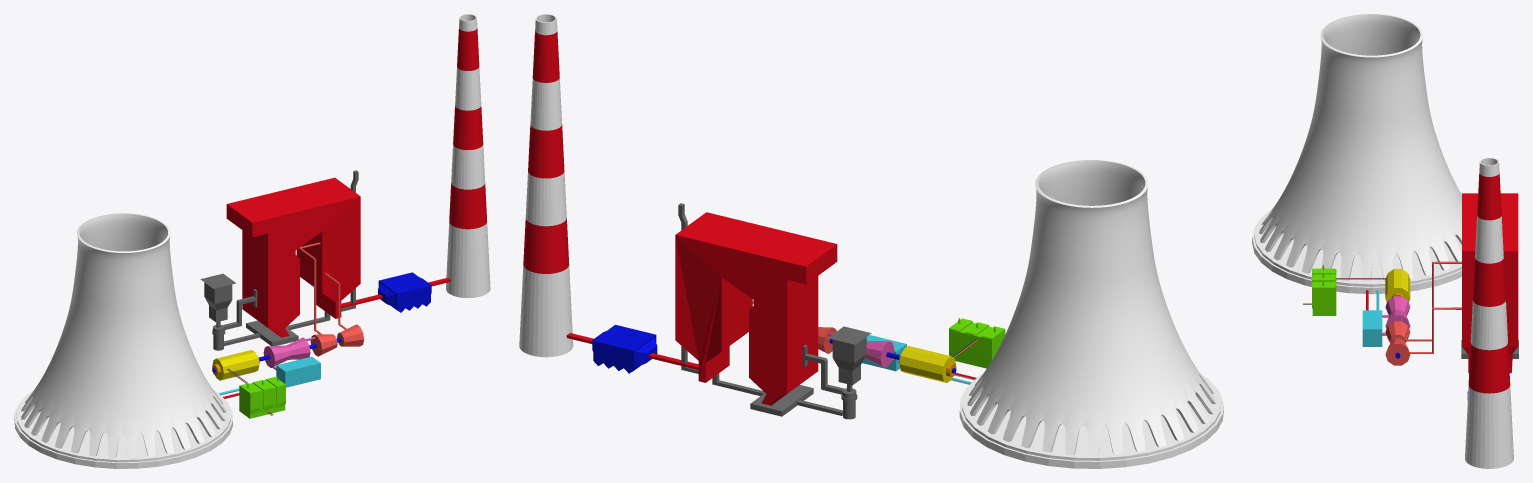
The model's file is thermal_power_plant.glb.
The picture shows the model from 3 angles, left to right: view 1: azimuth 30°, elevation 25°; view 2: azimuth 150°, elevation 25°; view 3: azimuth 270°, elevation 25°; orthographic projection. The views are drawn at different scales.
Visible parts, largest first — view 1: Cylinder, Plane, Cylinder.003, Cylinder.001, Cylinder.002, Cube, Cube.006, Plane.001, Cube.005, Cylinder.007, Cylinder.008, Cube.004 (+1 smaller); view 2: Cylinder, Plane, Cylinder.003, Cylinder.001, Cylinder.002, Cube, Cube.006, Plane.001, Cylinder.007, Cube.004, Cube.003; view 3: Cylinder, Cylinder.003, Plane, Cylinder.001, Cylinder.002, Cube.006, Cube.005, Cylinder.007, Cylinder.008, Cylinder.010, Cylinder.009.
Boxes of the visible parts, x1=… form: Cylinder: x1=21, y1=213, x2=226, y2=457; Plane: x1=226, y1=177, x2=382, y2=337; Cylinder.003: x1=446, y1=14, x2=490, y2=297; Cylinder.001: x1=16, y1=390, x2=230, y2=462; Cylinder.002: x1=14, y1=396, x2=232, y2=468; Cube: x1=378, y1=272, x2=431, y2=312; Cube.006: x1=239, y1=377, x2=285, y2=418; Plane.001: x1=200, y1=273, x2=235, y2=327; Cube.005: x1=276, y1=356, x2=320, y2=387; Cylinder.007: x1=212, y1=350, x2=259, y2=380; Cylinder.008: x1=263, y1=337, x2=310, y2=367; Cube.004: x1=224, y1=170, x2=358, y2=346; Cylinder: x1=967, y1=160, x2=1216, y2=455; Plane: x1=649, y1=212, x2=837, y2=405; Cylinder.003: x1=519, y1=14, x2=573, y2=357; Cylinder.001: x1=962, y1=374, x2=1221, y2=460; Cylinder.002: x1=959, y1=381, x2=1223, y2=468; Cube: x1=592, y1=324, x2=657, y2=373; Cube.006: x1=949, y1=318, x2=1005, y2=368; Plane.001: x1=828, y1=326, x2=871, y2=391; Cylinder.007: x1=899, y1=346, x2=955, y2=382; Cube.004: x1=678, y1=203, x2=842, y2=415; Cube.003: x1=750, y1=385, x2=813, y2=416; Cylinder: x1=1259, y1=14, x2=1461, y2=282; Cylinder.003: x1=1465, y1=157, x2=1513, y2=468; Plane: x1=1462, y1=193, x2=1518, y2=373; Cylinder.001: x1=1254, y1=207, x2=1461, y2=286; Cylinder.002: x1=1252, y1=217, x2=1461, y2=294; Cube.006: x1=1312, y1=268, x2=1336, y2=315; Cube.005: x1=1362, y1=310, x2=1382, y2=346; Cylinder.007: x1=1385, y1=269, x2=1410, y2=302; Cylinder.008: x1=1385, y1=296, x2=1410, y2=328; Cylinder.010: x1=1385, y1=338, x2=1410, y2=365; Cylinder.009: x1=1385, y1=321, x2=1410, y2=342.
Bounding box in the file's own units: 0.3132 × 0.1583 × 0.1289.
